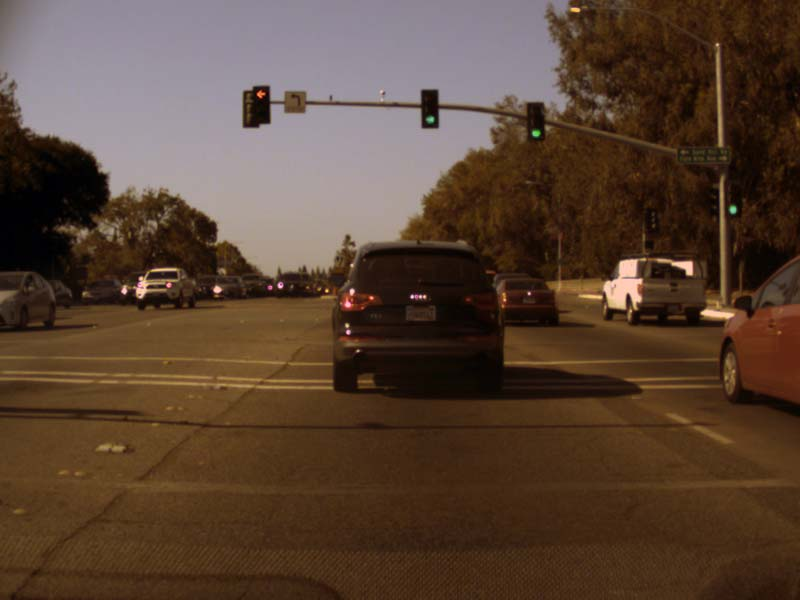Green: (420, 89, 439, 128), (525, 103, 544, 141), (723, 181, 741, 217)
Red: (252, 85, 269, 124)
